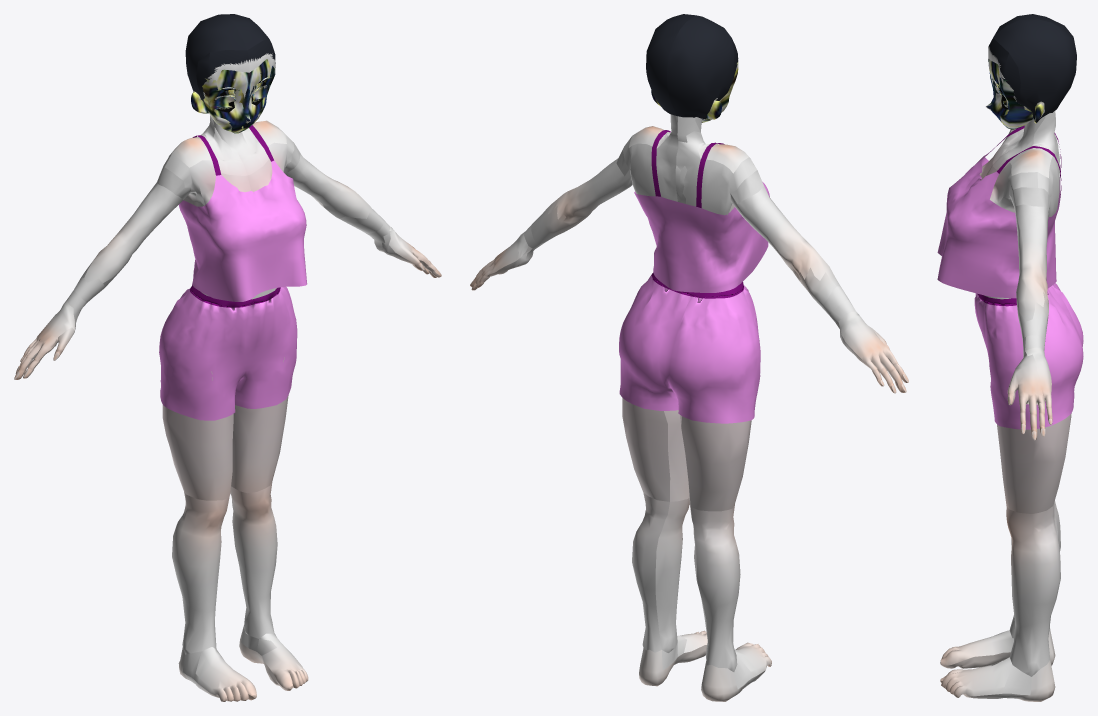
Rendered from babydoll.obj.
The picture shows the model from 3 angles, left to right: view 1: azimuth 30°, elevation 25°; view 2: azimuth 150°, elevation 25°; view 3: azimuth 270°, elevation 25°; orthographic projection. The views are drawn at different scales.
Parts seen in each view (by area): view 1: object 8, Pattern2D_3308, Pattern2D_555625, Pattern2D_317630, Pattern2D_314340, Pattern2D_805991; view 2: object 8, Pattern2D_555625, Pattern2D_314340, Pattern2D_317630; view 3: object 8, Pattern2D_317630, Pattern2D_3308, Pattern2D_314340, Pattern2D_555625, Pattern2D_805991.
Boxes of the visible parts, x1,y1,x2,y2 form: object 8: [14, 14, 441, 701]; Pattern2D_3308: [196, 160, 307, 301]; Pattern2D_555625: [159, 288, 253, 420]; Pattern2D_317630: [235, 286, 297, 408]; Pattern2D_314340: [179, 200, 212, 297]; Pattern2D_805991: [190, 285, 280, 307]; object 8: [470, 14, 908, 701]; Pattern2D_555625: [665, 285, 760, 423]; Pattern2D_314340: [634, 191, 753, 292]; Pattern2D_317630: [619, 275, 683, 410]; object 8: [940, 14, 1076, 701]; Pattern2D_317630: [974, 287, 1083, 429]; Pattern2D_3308: [937, 146, 1013, 296]; Pattern2D_314340: [991, 177, 1060, 298]; Pattern2D_555625: [975, 283, 1083, 346]; Pattern2D_805991: [978, 294, 1016, 306].
Size of the model in its own units: 1.33 by 1.96 by 0.3902.
